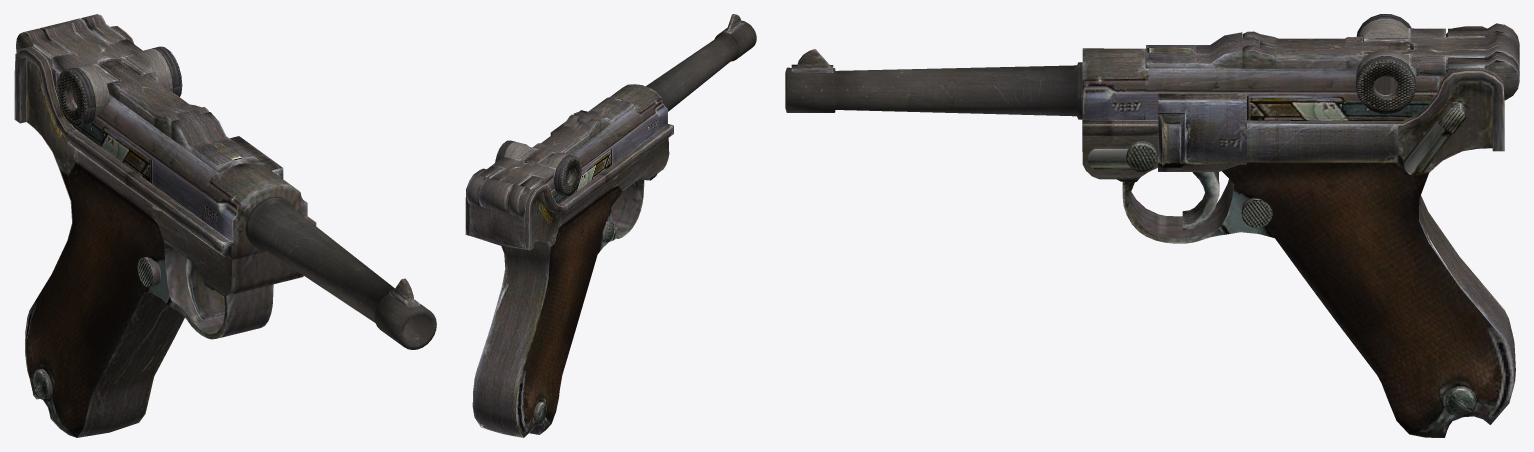
File: Luger.obj
3 renders of one model, left to right at view 1: azimuth 30°, elevation 25°; view 2: azimuth 150°, elevation 25°; view 3: azimuth 270°, elevation 25°, orthographic. The views are drawn at different scales.
Bounding box in the file's own units: 0.0868 × 0.3017 × 0.5174.
1 material, 1 textured.
